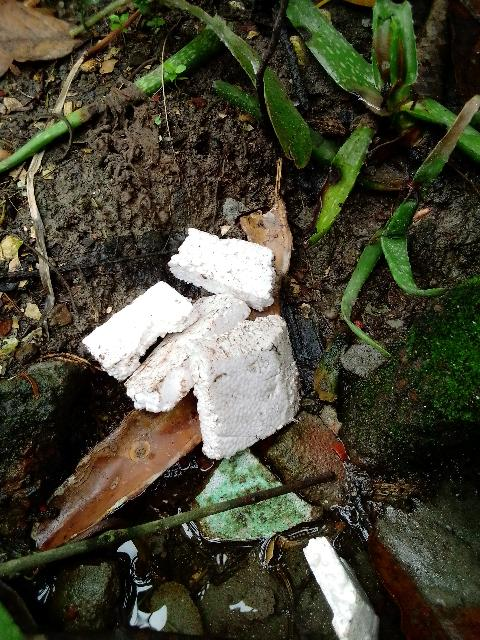cocksheet: (80, 201, 346, 472)
